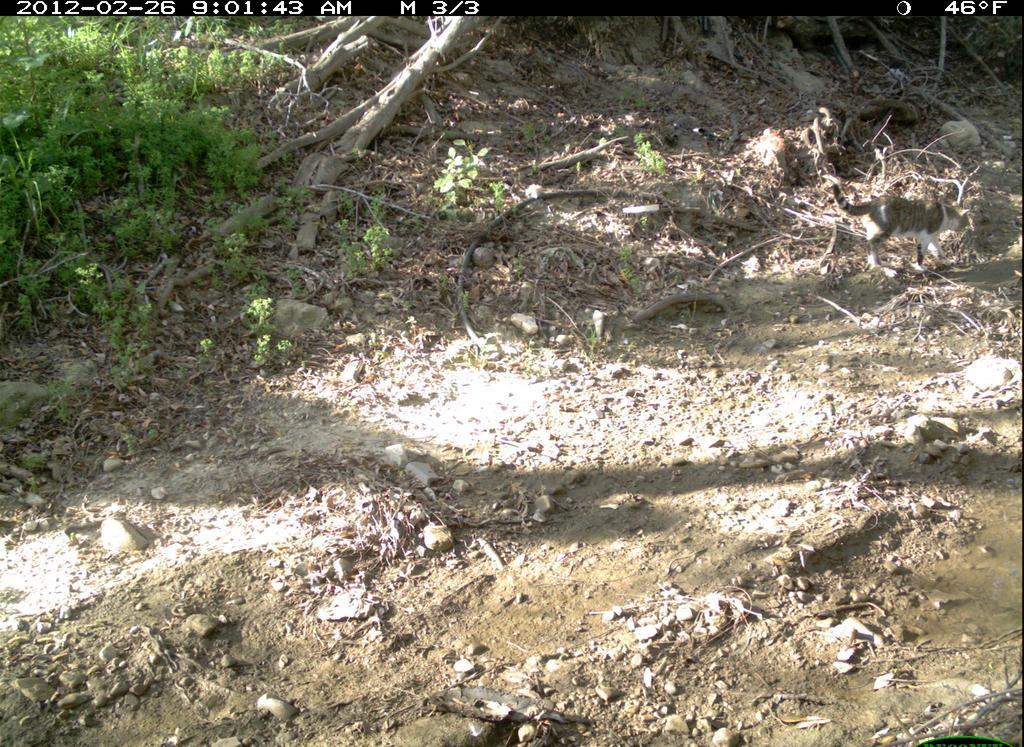cat: (826, 169, 981, 278)
